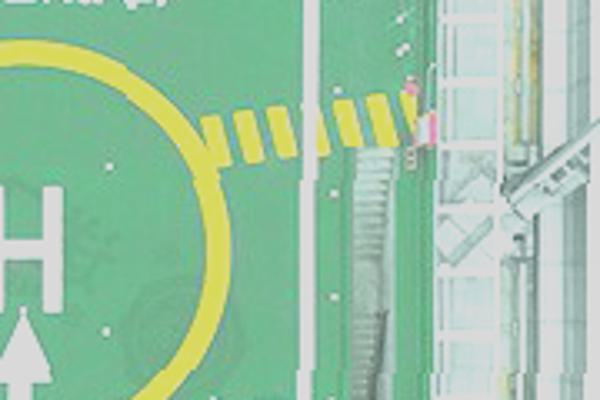Apron: (1, 41, 225, 380)
